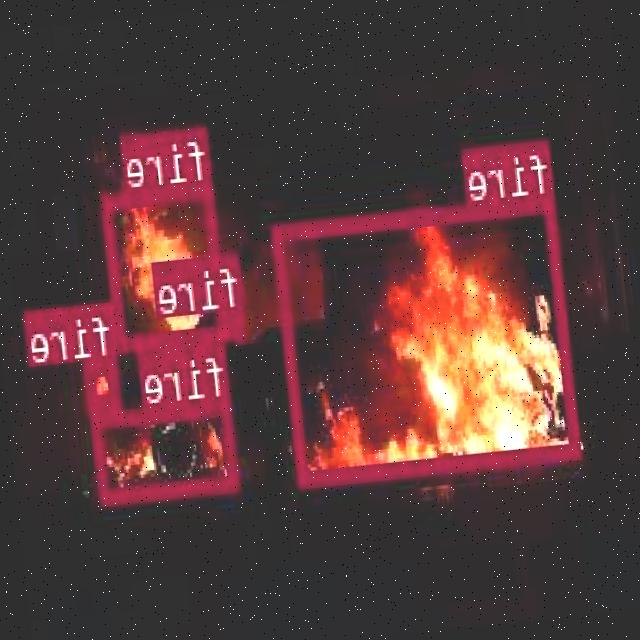fire: (274, 195, 583, 482), (102, 178, 229, 348), (93, 396, 242, 500), (84, 357, 123, 409), (226, 306, 248, 338)
